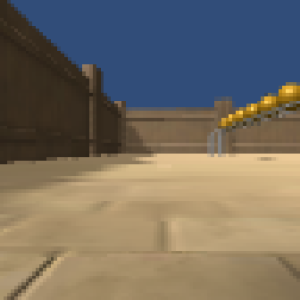goodGoalMulti: (277, 84, 300, 109), (257, 94, 276, 114), (244, 103, 259, 118), (231, 109, 244, 124), (217, 114, 230, 128)
wall: (216, 130, 223, 158), (208, 132, 215, 155)
